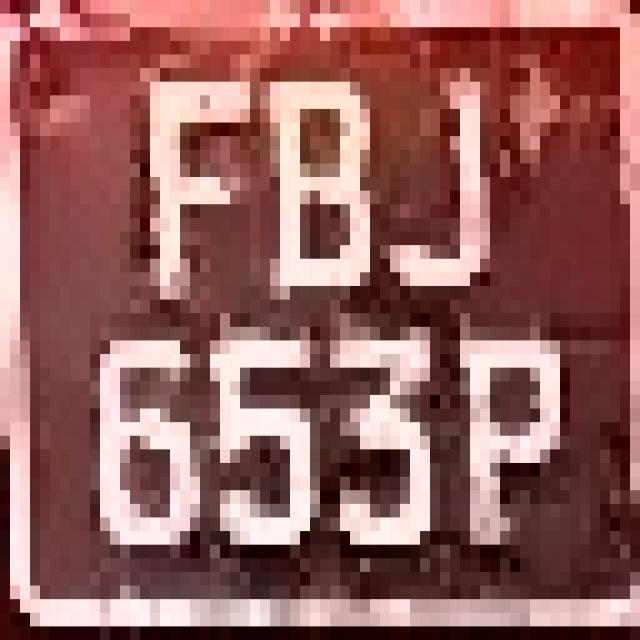3: (300, 299, 440, 572)
5: (210, 313, 320, 572)
6: (90, 300, 200, 544)
B: (240, 41, 390, 340)
F: (110, 41, 260, 340)
J: (380, 41, 520, 340)
P: (450, 313, 580, 558)
